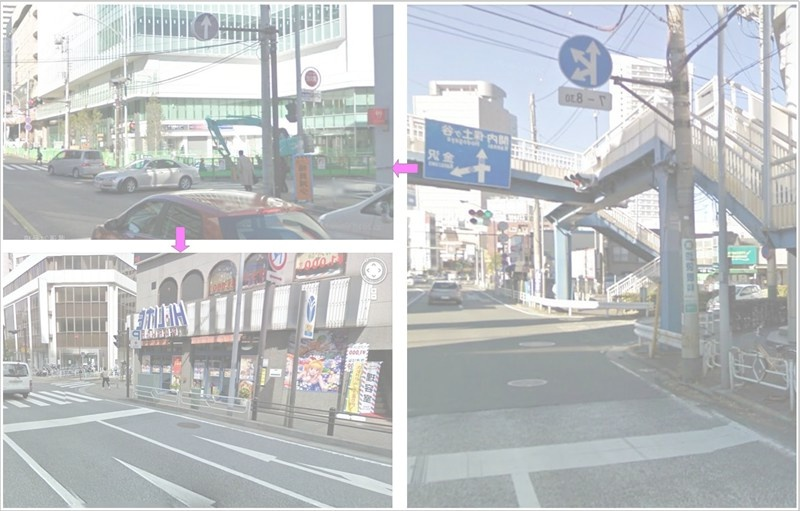Direction_sign: (561, 40, 619, 94), (186, 14, 229, 51)
